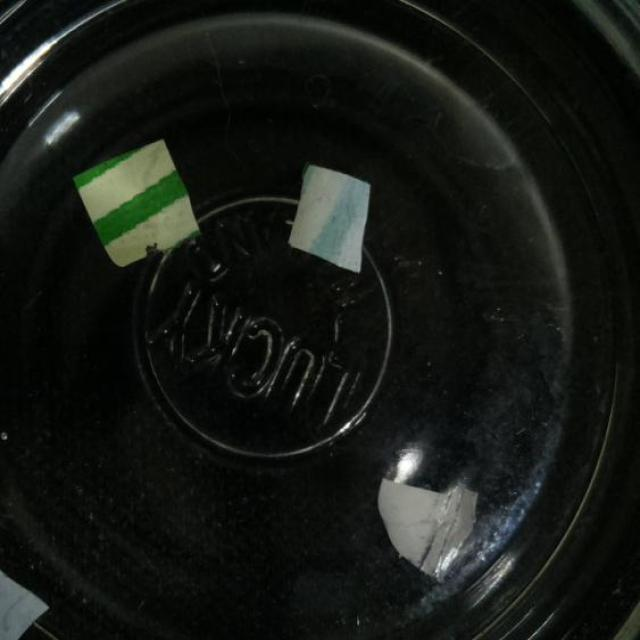fiber: (70, 134, 202, 270), (370, 467, 486, 584), (291, 163, 374, 278), (0, 517, 56, 639)
